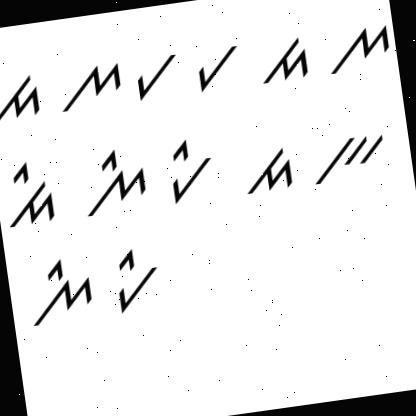da: (252, 25, 320, 92), (230, 138, 304, 198), (0, 58, 45, 130)
di: (0, 158, 59, 230)
na: (52, 53, 127, 122), (324, 20, 394, 78)
ni: (18, 250, 99, 334), (78, 145, 150, 219)
pa: (188, 39, 245, 97), (130, 49, 183, 101)
pi: (108, 244, 168, 316), (159, 136, 216, 206)
